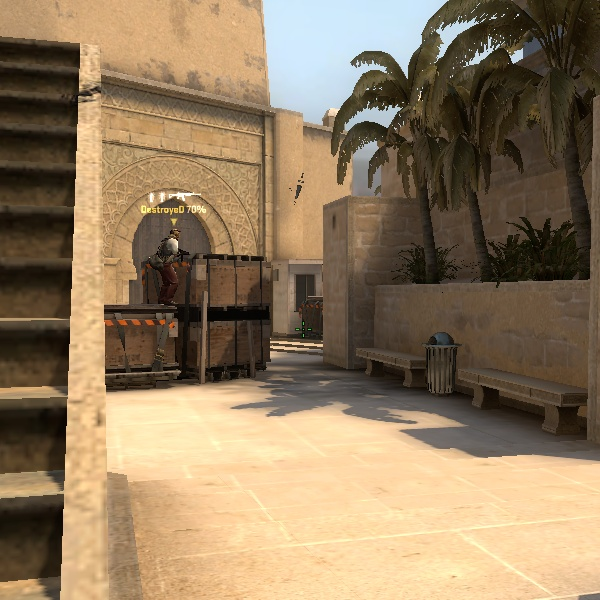t_body: (140, 224, 195, 306)
t_head: (164, 226, 183, 244)
